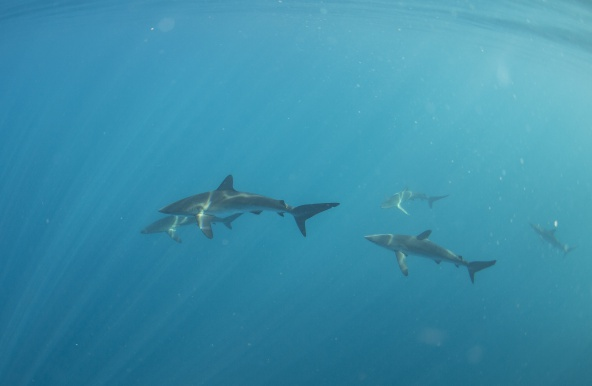Sedoso: (358, 225, 496, 284)
